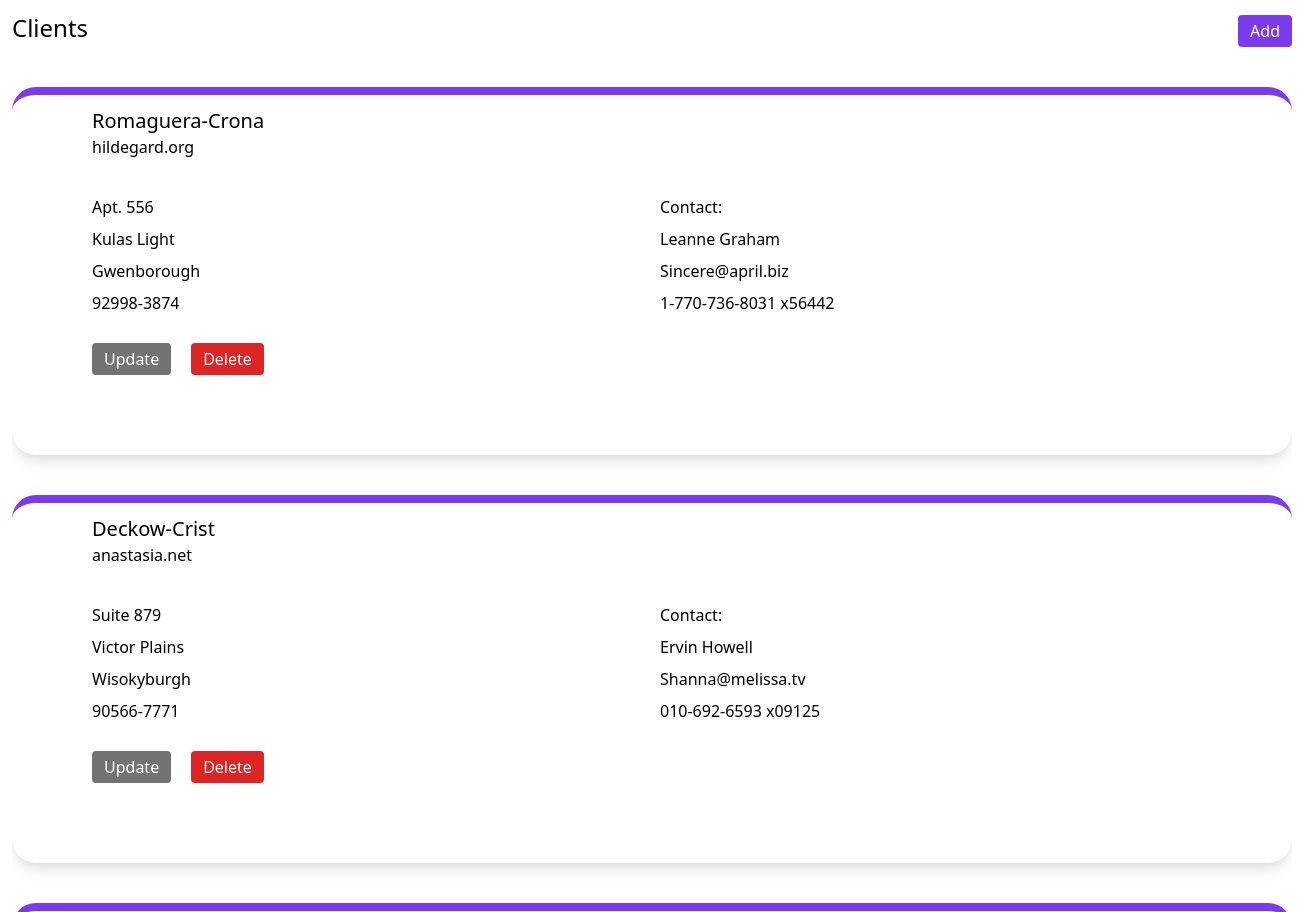
Test case: cancels adding a client
Click the button "Add": (1265,31) [1238,15,1292,47]
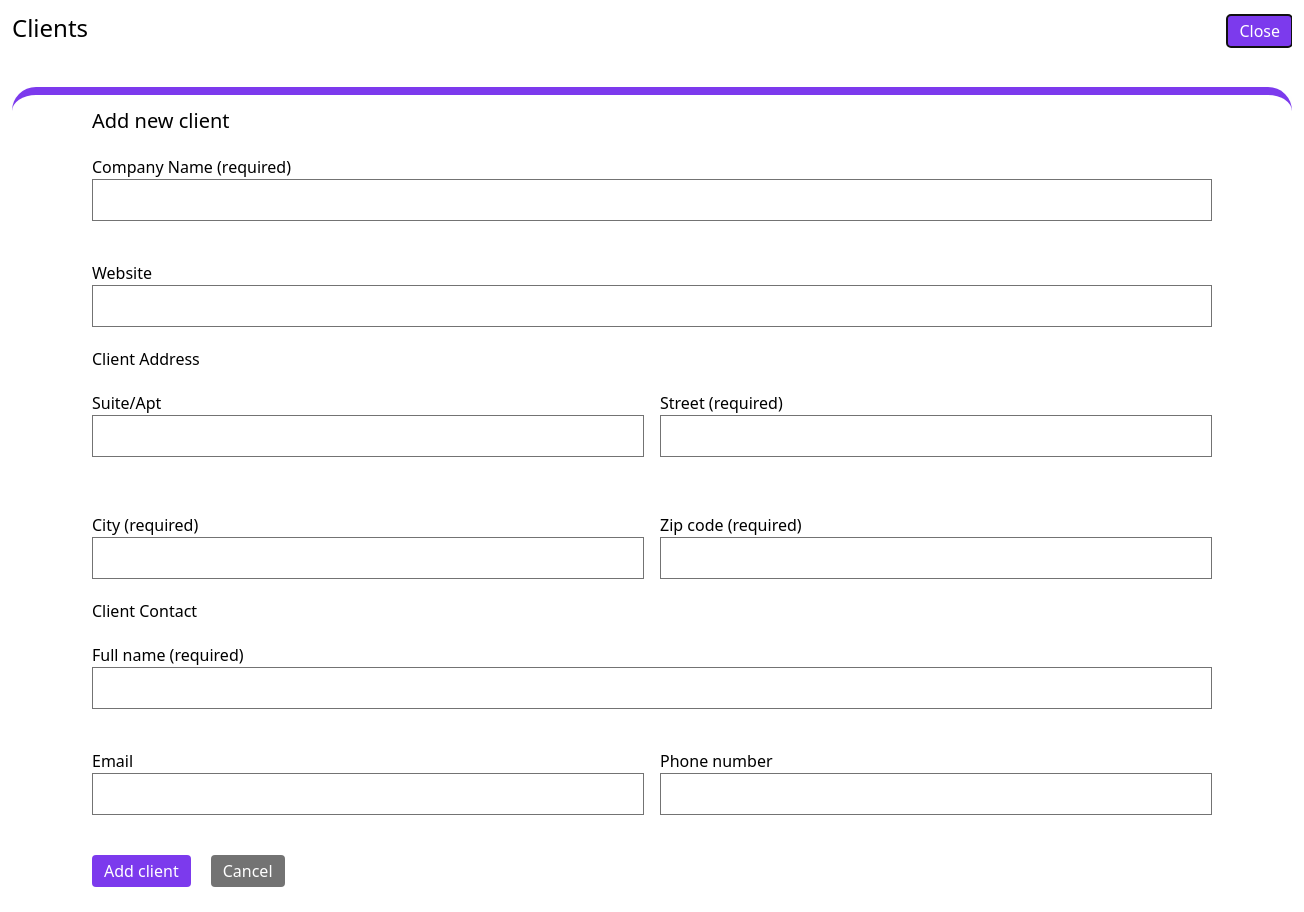
Click the button "Cancel": (248,871) [211,855,284,887]
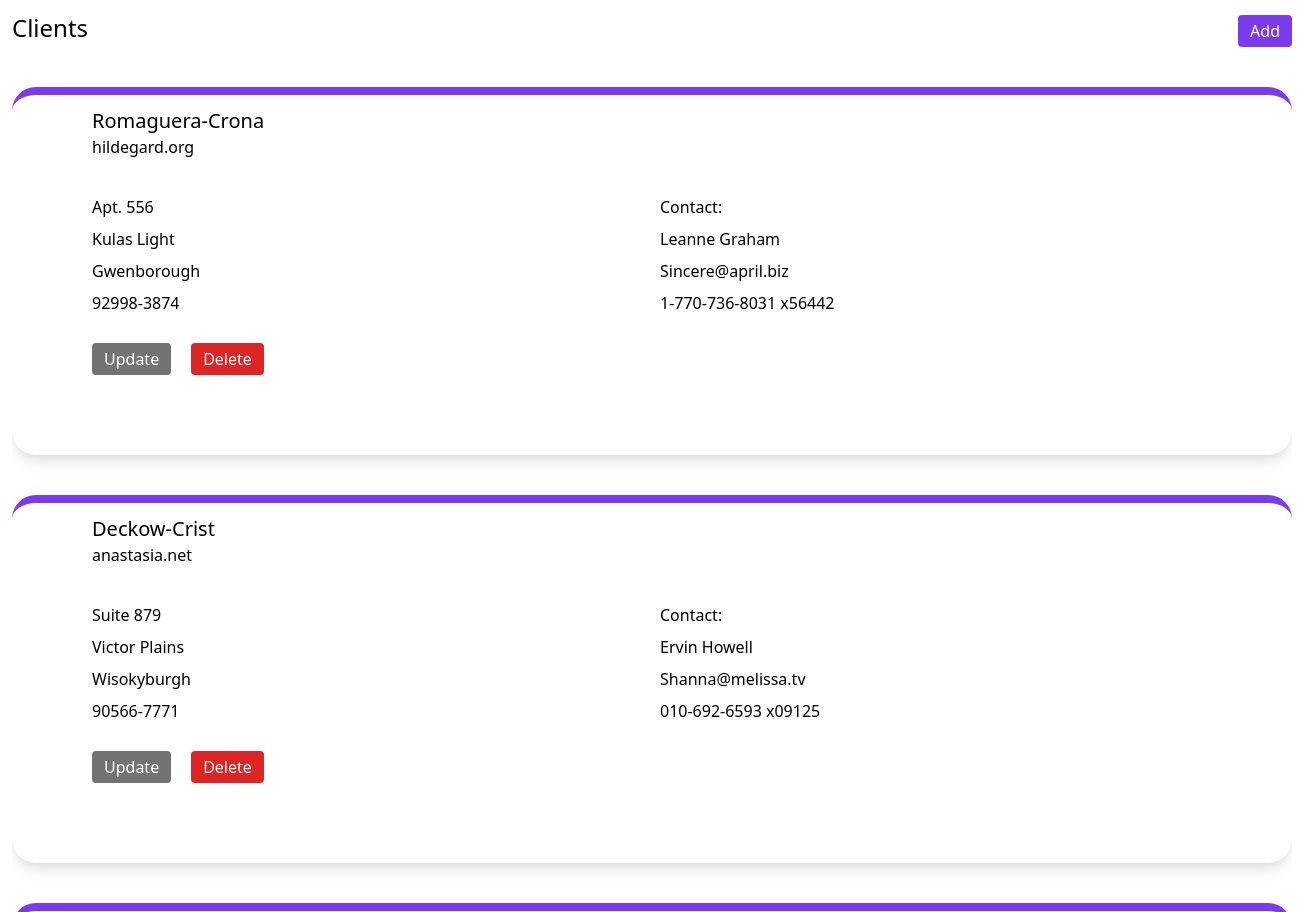
Result: the heading "Add new client" is gone
